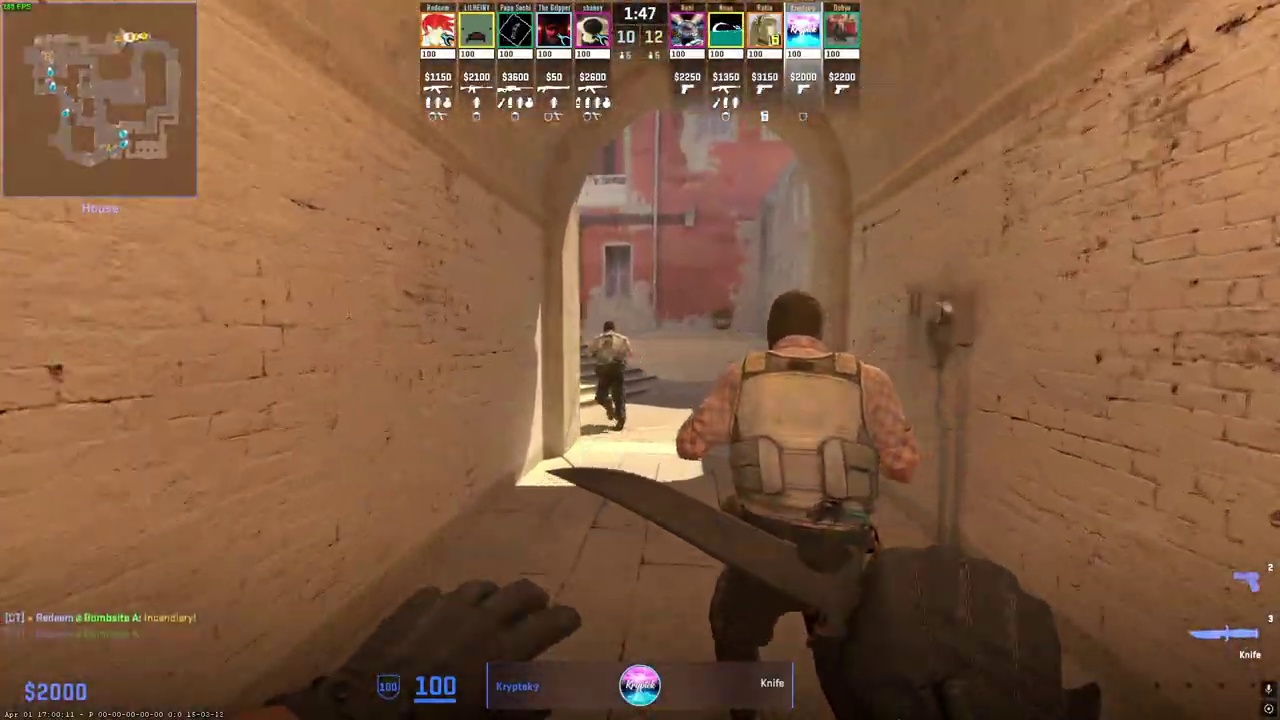Terrorist: (700, 287, 911, 689), (590, 321, 632, 429)
